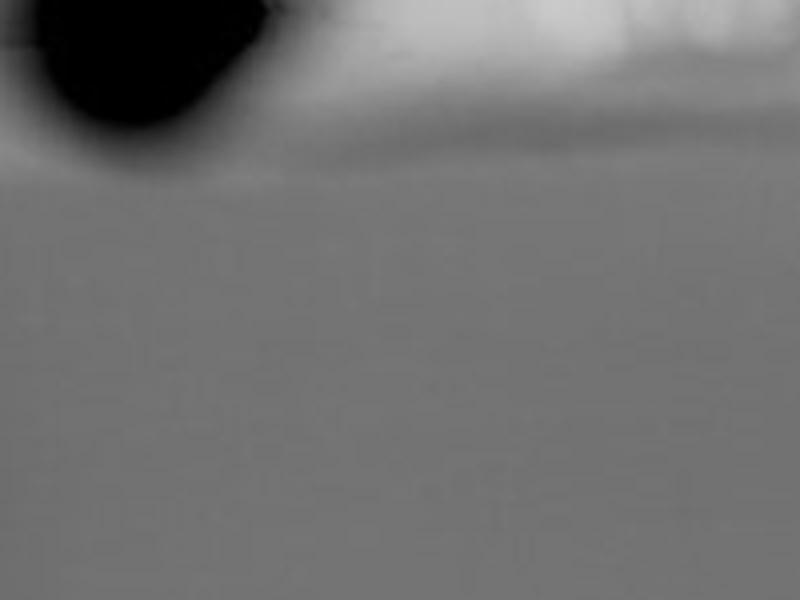defect: (29, 1, 279, 131)
